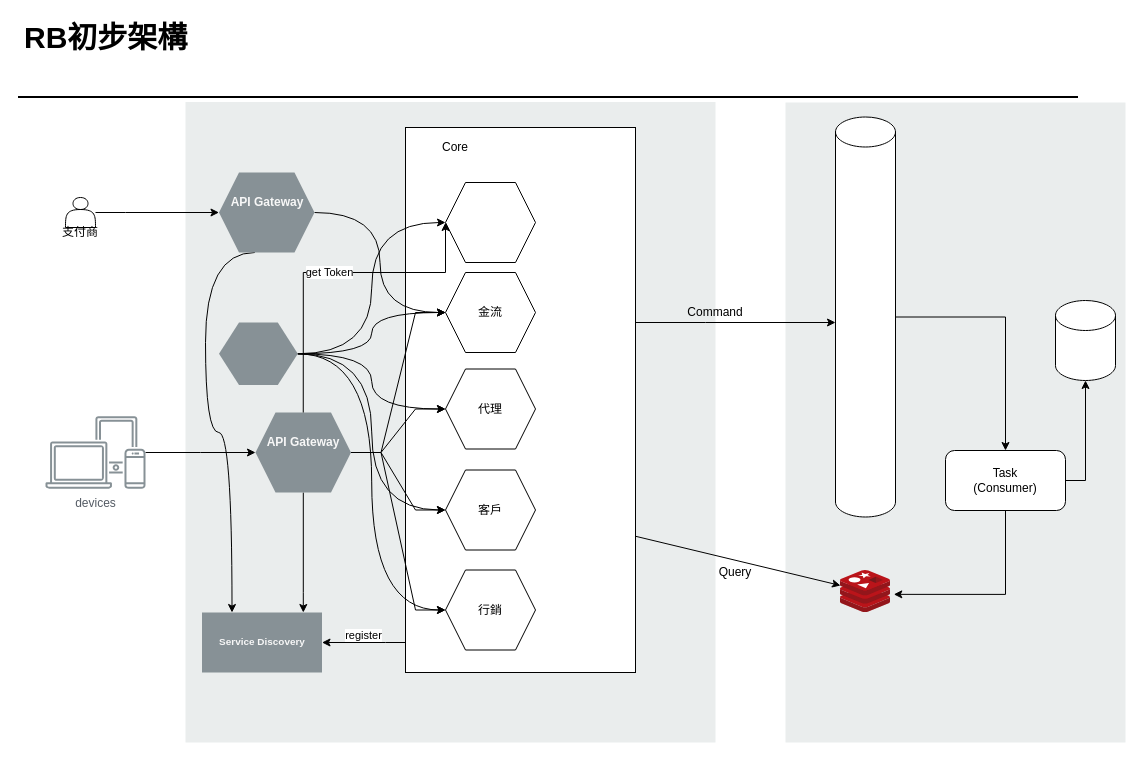
Some shapes in this 1143 by 760 pixel diagram are drawn without their labels. The centre of each missing label's shape, as x and y in pixels:
"Authentication Authorization" belongs at (x=490, y=222).
"DB" belongs at (x=1085, y=340).
"Maintanence Site" belongs at (x=257, y=353).
"Message Broker" belongs at (x=865, y=316).
